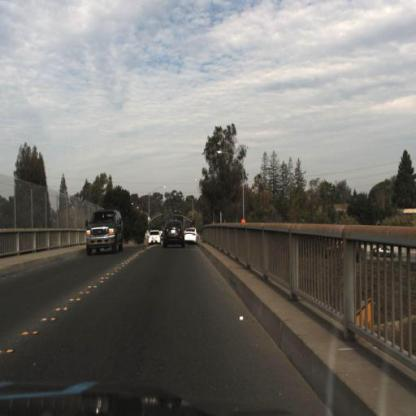car: (84, 208, 122, 253), (160, 218, 186, 252), (184, 219, 202, 247), (144, 224, 164, 247), (184, 224, 200, 248), (145, 224, 160, 246)
